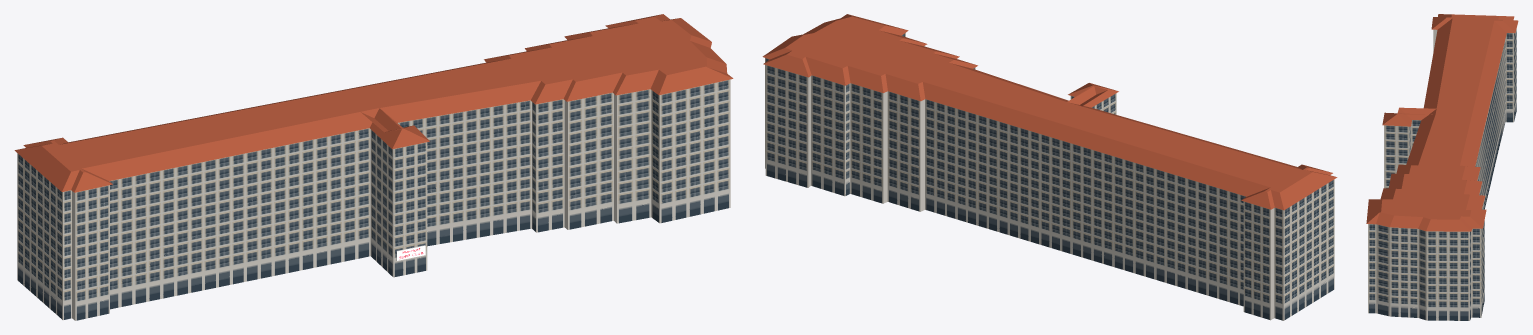
The model's file is marriott_surfclub.glb.
3 views of the same model, side by side, from view 1: azimuth 30°, elevation 25°; view 2: azimuth 150°, elevation 25°; view 3: azimuth 270°, elevation 25° (orthographic). The views are drawn at different scales.
Visible parts, largest first — view 1: marriott_surfclub_lod0; view 2: marriott_surfclub_lod0; view 3: marriott_surfclub_lod0.
Part boxes in pixels (left/top/right/bottom): marriott_surfclub_lod0: left=14, top=14, right=733, bottom=320; marriott_surfclub_lod0: left=762, top=14, right=1337, bottom=320; marriott_surfclub_lod0: left=1366, top=14, right=1518, bottom=320.
Size of what is drawn, in the model's own units: 187 by 38.39 by 55.19.
Materials: 6 (3 with a texture image).
